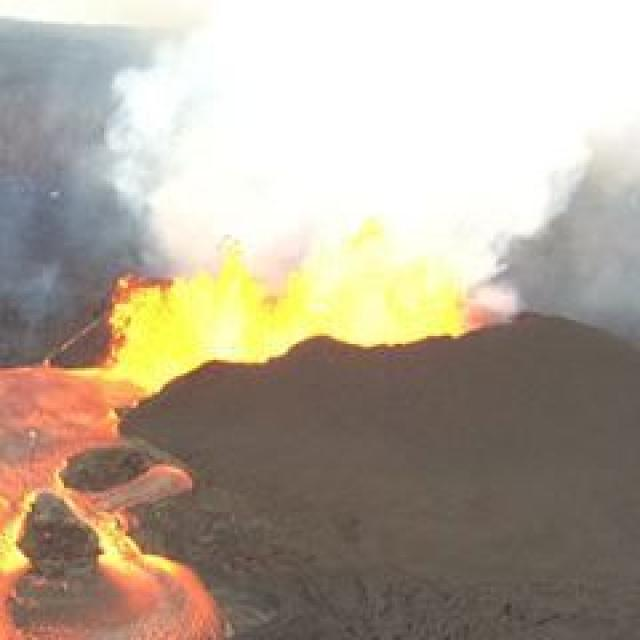Fire: (93, 231, 435, 397)
Smoke: (152, 10, 602, 238)
